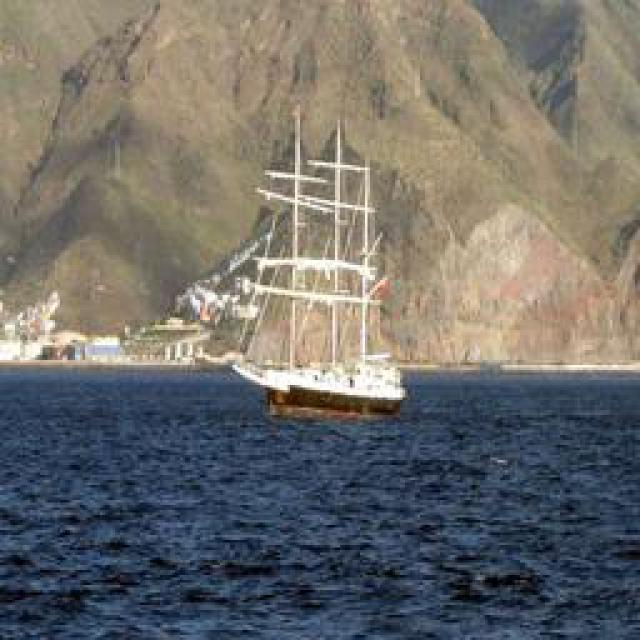Ship: (227, 116, 405, 414)
